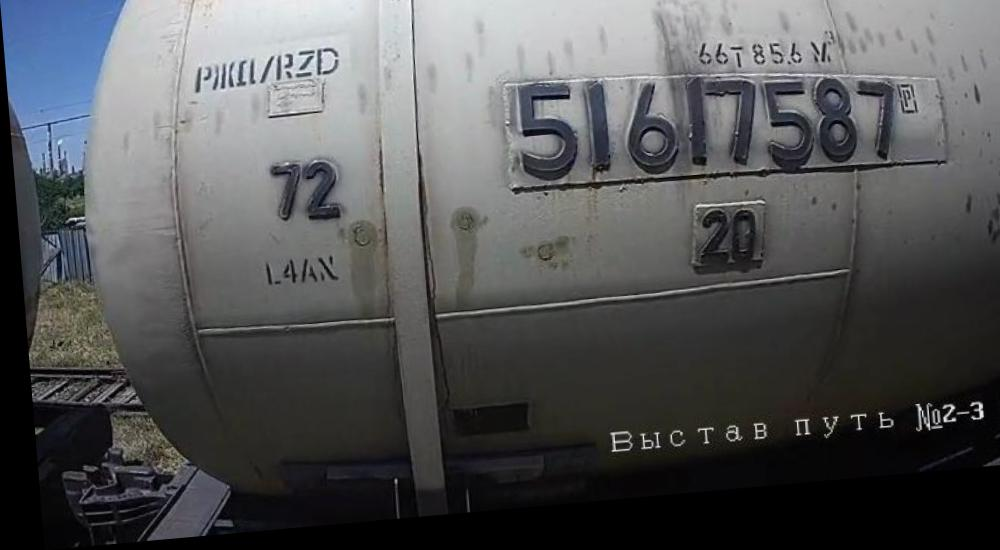Wagon-number: (498, 66, 904, 208)
